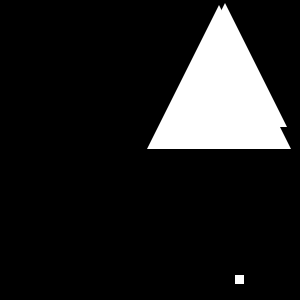circle: (235, 275, 244, 284)
triangle: (147, 5, 291, 149), (163, 3, 287, 127), (195, 72, 235, 112), (206, 26, 224, 44)
